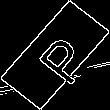P_NW: (22, 24, 88, 86)
